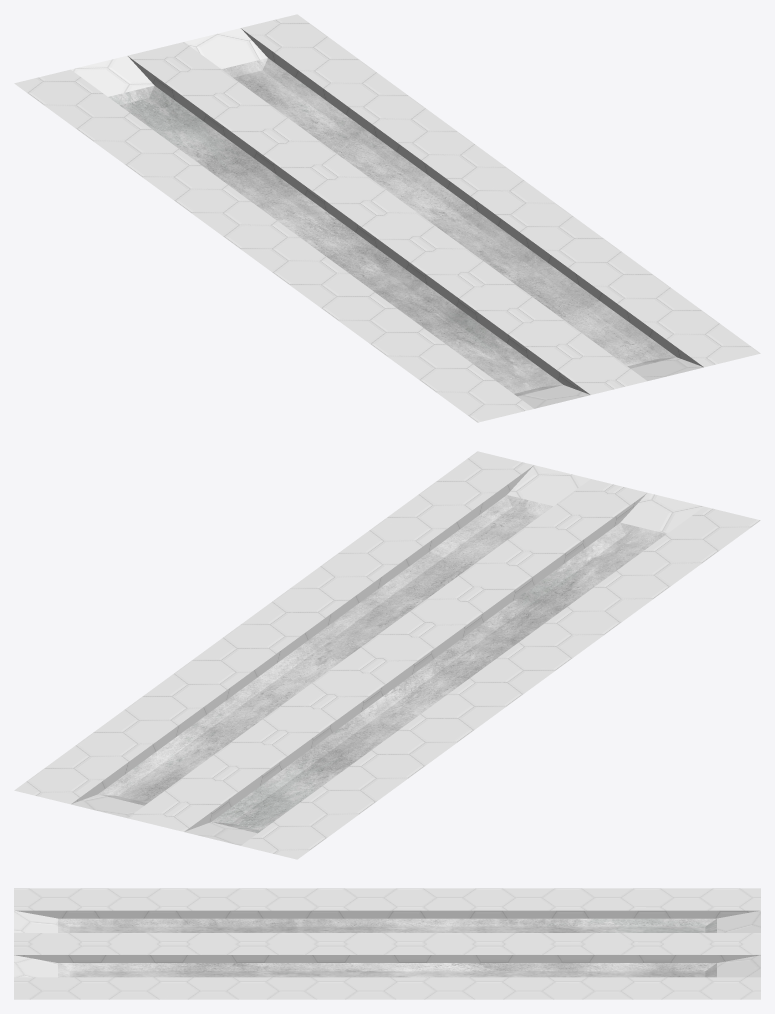
Rendered from AisleCeiling.fbx.
3 renders of one model, top to bottom at view 1: azimuth 30°, elevation 25°; view 2: azimuth 150°, elevation 25°; view 3: azimuth 270°, elevation 25°, orthographic. The views are drawn at different scales.
Parts seen in each view (by area): view 1: Aisle001; view 2: Aisle001; view 3: Aisle001.
Part boxes in pixels (x1,y1,x2,y2): Aisle001: (14,14,760,422); Aisle001: (14,451,760,859); Aisle001: (14,888,760,999).
Bounding box in the file's own units: 152 × 7.13 × 432.
Materials: 1 (1 with a texture image).
